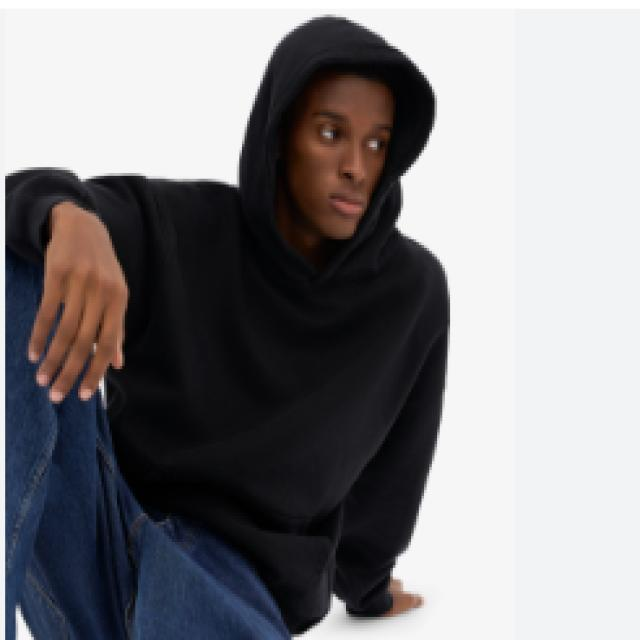4_capucha: (238, 15, 436, 309)
